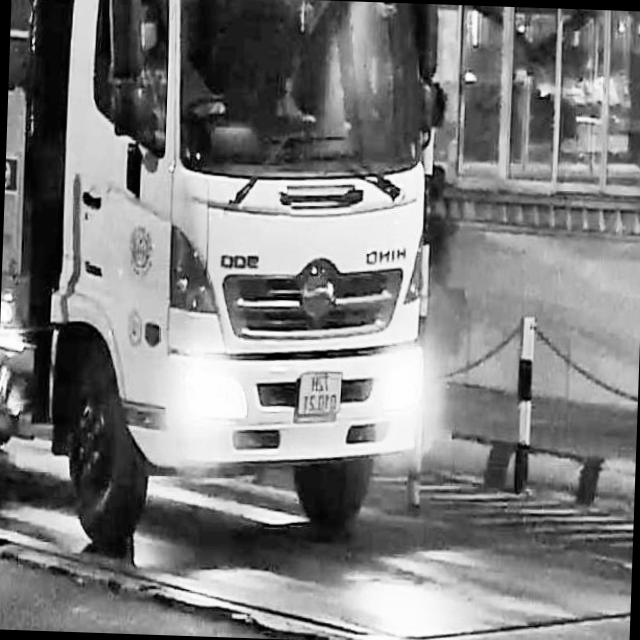Truck: (0, 0, 445, 558)
